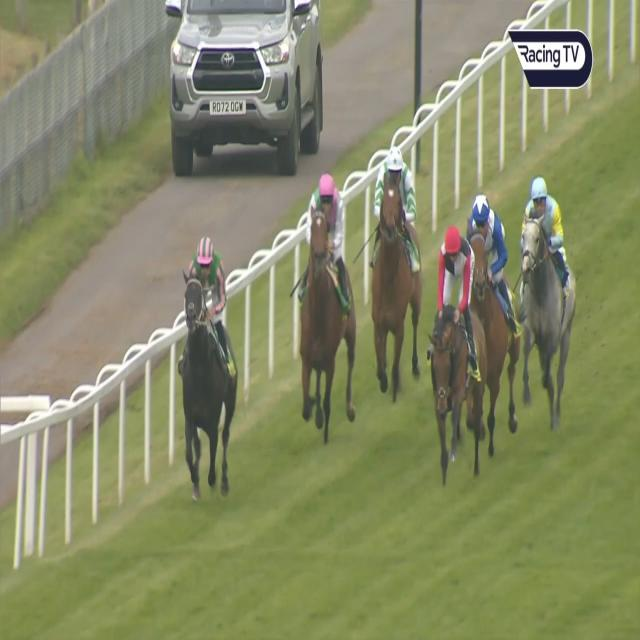horses-racing: (177, 235, 237, 504), (304, 173, 358, 441), (467, 200, 524, 434), (432, 230, 486, 472), (522, 177, 572, 430), (373, 147, 422, 388)
